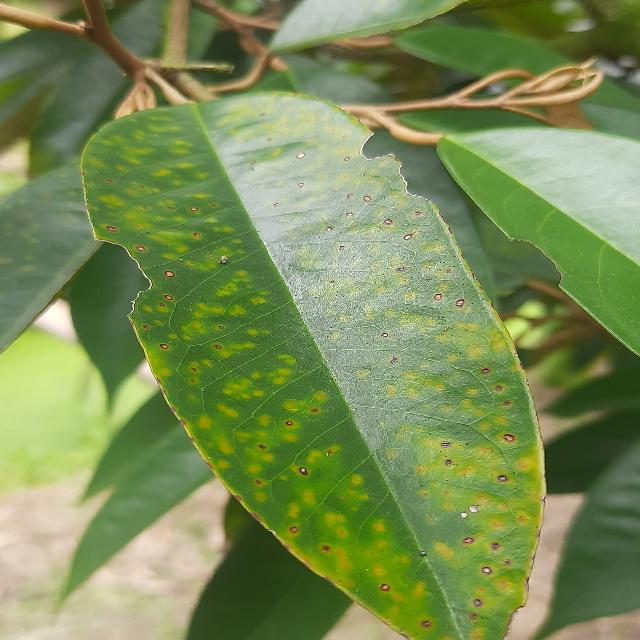Leaf Spot: (69, 77, 559, 639)
